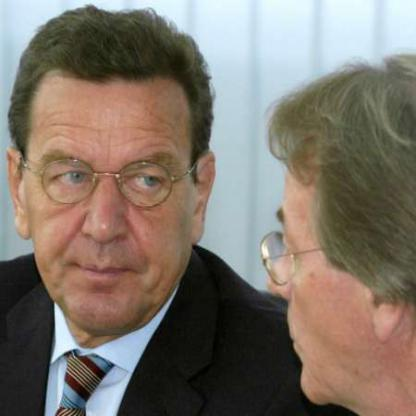face: (25, 26, 198, 337)
